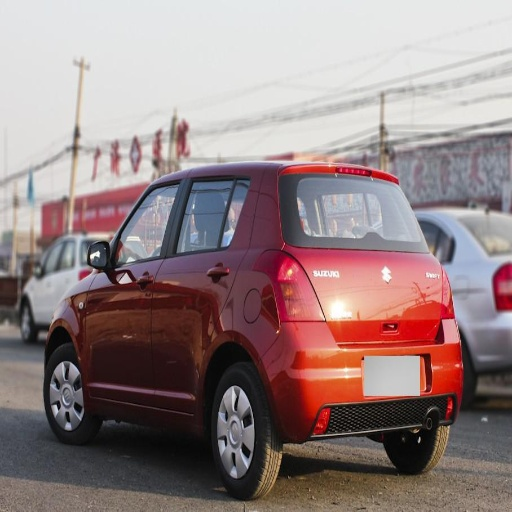back_bumper: (267, 320, 465, 440)
back_glass: (280, 175, 421, 244)
back_left_door: (155, 177, 244, 408)
tailgate: (384, 268, 419, 325)
trunk: (299, 243, 443, 360)
